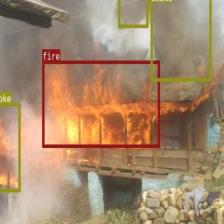fire: (42, 60, 160, 147)
smoke: (150, 0, 211, 81), (0, 102, 20, 191), (117, 0, 147, 27)
